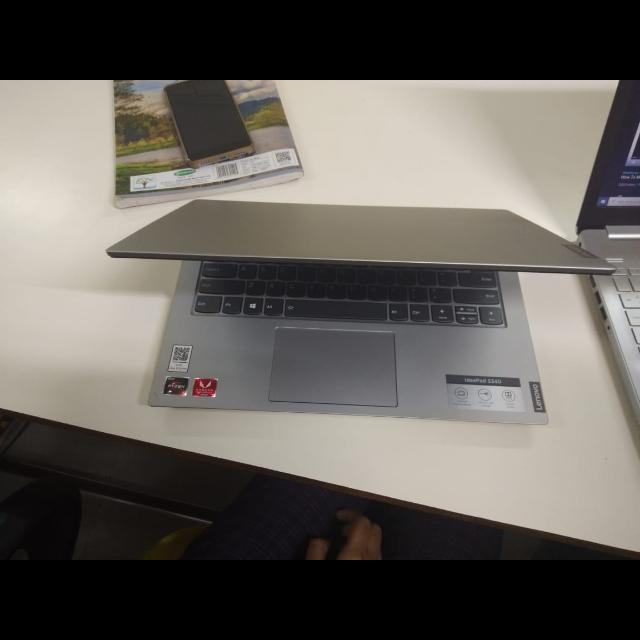Laptop: (102, 195, 628, 431)
